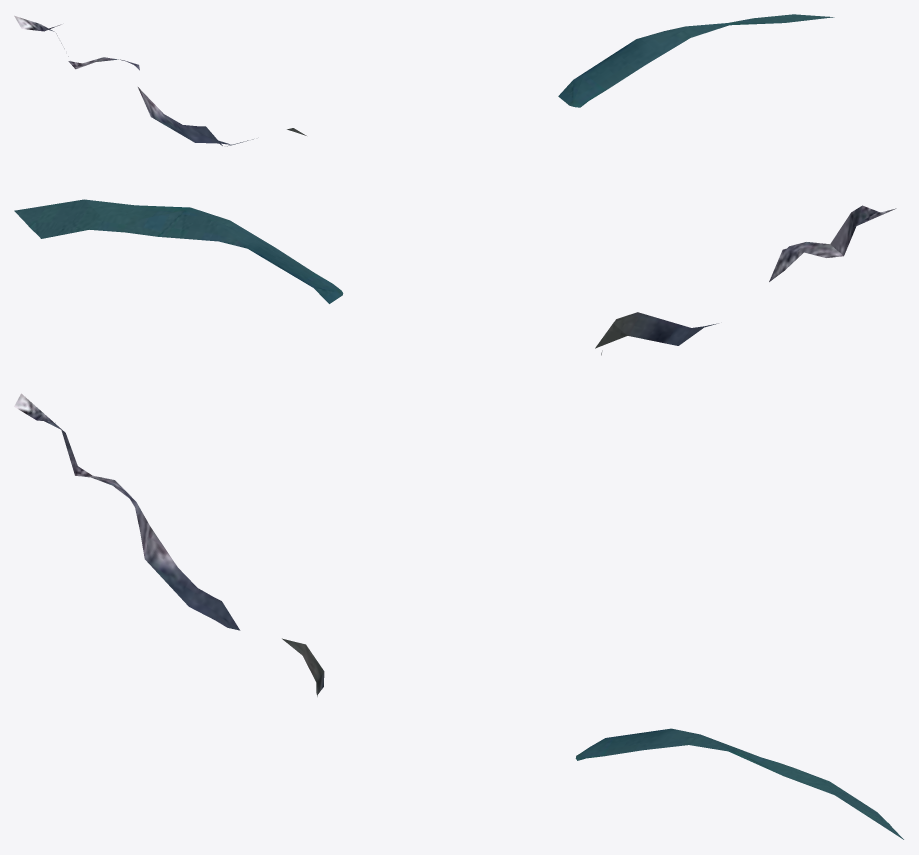
The model's file is Tile_+007_+008_L19_00040.glb.
3 views of the same model, one above another, from view 1: azimuth 30°, elevation 25°; view 2: azimuth 150°, elevation 25°; view 3: azimuth 330°, elevation 25° (orthographic).
Parts seen in each view (by area): view 1: rtc; view 2: rtc; view 3: rtc.
Part boxes in pixels (box(x1,y1,x2,y2)): rtc: box(14, 14, 834, 146); rtc: box(14, 199, 896, 355); rtc: box(14, 393, 903, 839).
Size of the model in its own units: 43.26 by 10.44 by 1.91.
Materials: 1 (1 with a texture image).
